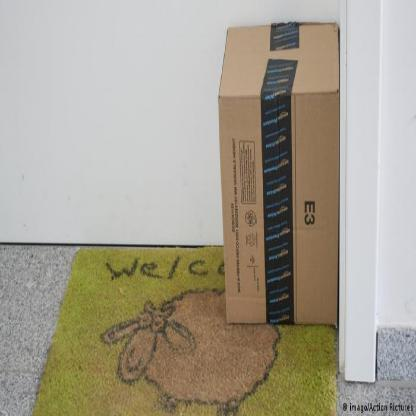package: (218, 19, 342, 331)
